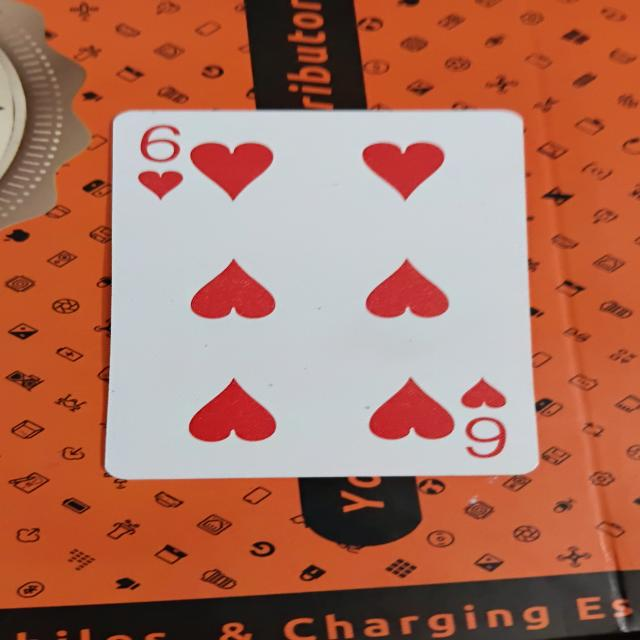6H: (106, 110, 541, 475)
